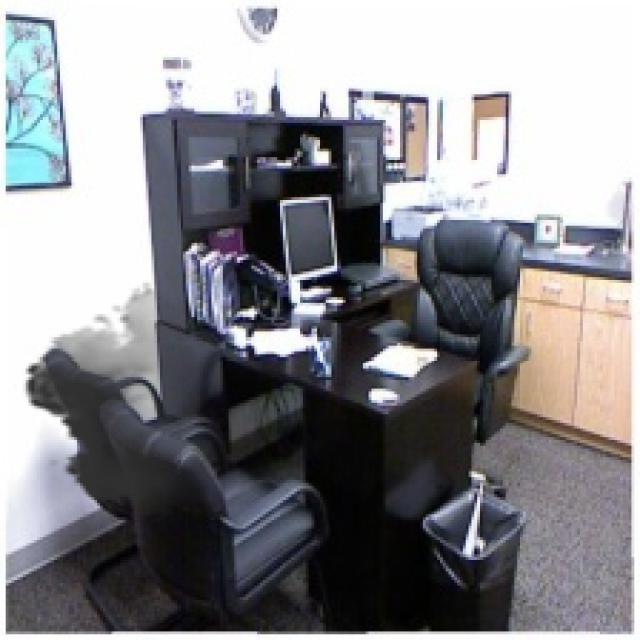Smoke: (14, 280, 266, 523)
